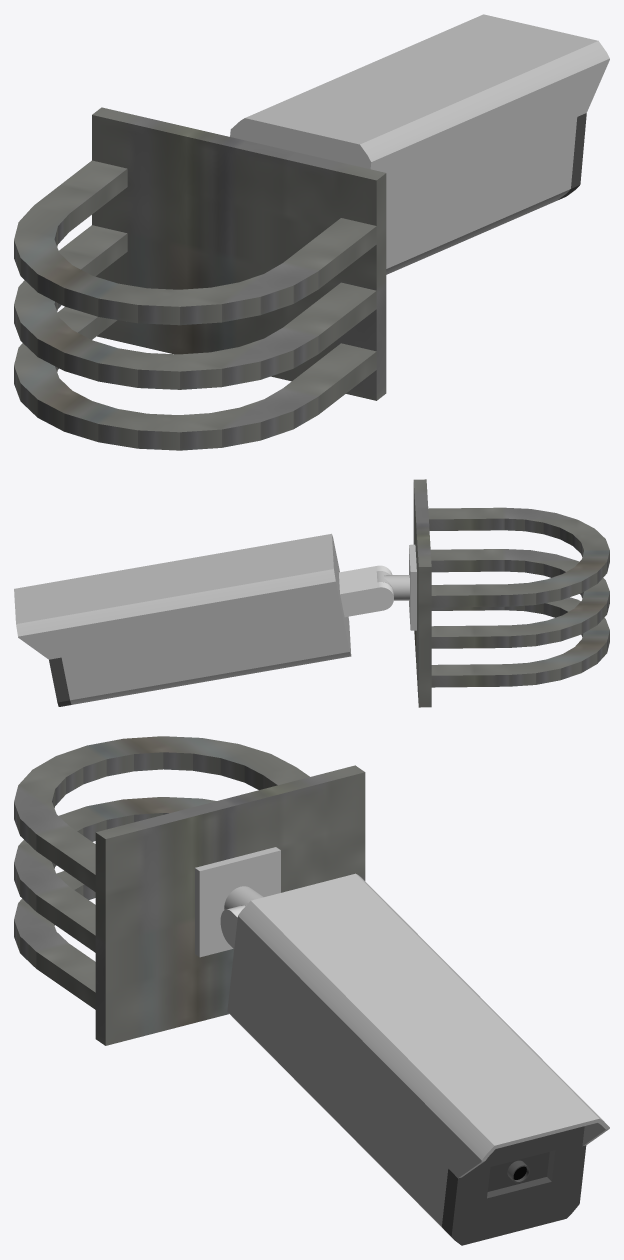
File: Camera OCR.fbx
3 views of the same model, one above another, from view 1: azimuth 30°, elevation 25°; view 2: azimuth 150°, elevation 25°; view 3: azimuth 270°, elevation 25° (orthographic). The views are drawn at different scales.
Visible parts, largest first — view 1: Componente_16_1, Componente_1_1, Al_a1, Al_a3, Al_a2, Componente_9_1; view 2: Componente_16_1, Al_a1, Al_a3, Al_a2, Componente_1_1, Componente_12_1, Componente_11_1, Componente_9_1; view 3: Componente_16_1, Componente_1_1, Al_a1, Componente_9_1, Al_a3, Componente_11_1, Al_a2.
Part boxes in pixels (box(x1,y1,x2,y2)): Componente_16_1: box(230, 14, 609, 274); Componente_1_1: box(92, 107, 386, 400); Al_a1: box(14, 160, 376, 325); Al_a3: box(14, 225, 376, 389); Al_a2: box(14, 306, 376, 450); Componente_9_1: box(557, 113, 586, 200); Componente_16_1: box(14, 533, 351, 704); Al_a1: box(428, 507, 609, 607); Al_a3: box(430, 549, 609, 648); Al_a2: box(431, 597, 609, 687); Componente_1_1: box(413, 479, 431, 707); Componente_12_1: box(339, 565, 393, 617); Componente_11_1: box(376, 544, 416, 630); Componente_9_1: box(49, 657, 71, 706); Componente_16_1: box(227, 873, 609, 1229); Componente_1_1: box(95, 765, 365, 1045); Al_a1: box(14, 736, 309, 891); Componente_9_1: box(442, 1126, 586, 1245); Al_a3: box(14, 797, 216, 952); Componente_11_1: box(195, 847, 280, 957); Al_a2: box(14, 871, 95, 1009).
Size of the model in its own units: 423 by 138 by 313.
